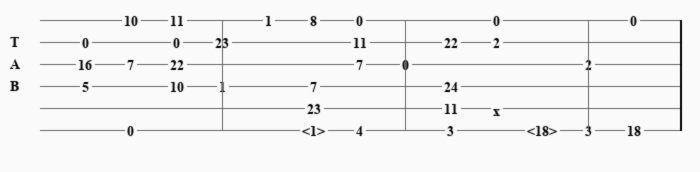0: (82, 35, 93, 49), (127, 123, 138, 137), (173, 35, 184, 49), (356, 13, 367, 27), (402, 57, 413, 71), (493, 13, 504, 27), (630, 13, 641, 27)
1: (219, 79, 230, 93), (265, 13, 276, 27)
10: (124, 13, 142, 27), (170, 79, 188, 93)
11: (170, 13, 188, 27), (353, 35, 371, 49), (444, 101, 462, 115)
16: (78, 57, 96, 71)
18: (627, 123, 645, 137)
2: (493, 35, 504, 49), (585, 57, 596, 71)
22: (170, 57, 188, 71), (444, 35, 462, 49)
23: (215, 35, 233, 49), (307, 101, 325, 115)
24: (444, 79, 462, 93)
3: (447, 123, 458, 137), (585, 123, 596, 137)
4: (356, 123, 367, 137)
5: (82, 79, 93, 93)
7: (127, 57, 138, 71), (310, 79, 321, 93), (356, 57, 367, 71)
8: (310, 13, 321, 27)
harmonic: (527, 123, 561, 137), (302, 123, 329, 137)
x: (493, 103, 504, 114)
